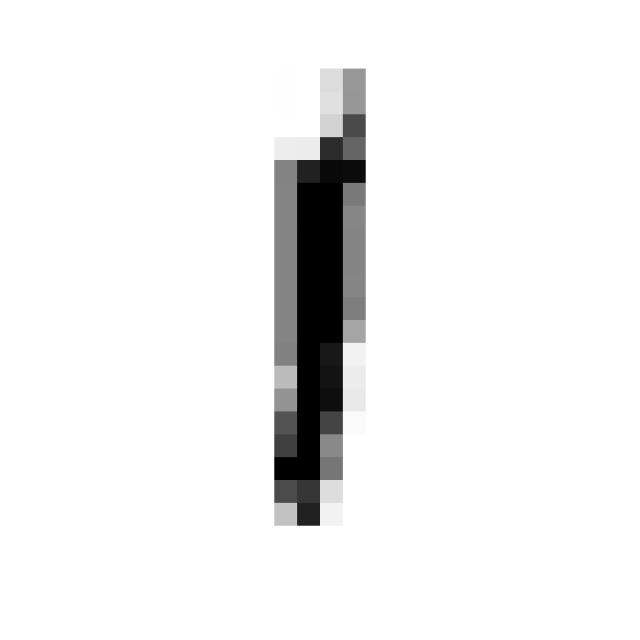1 -one-: (238, 53, 386, 538)
